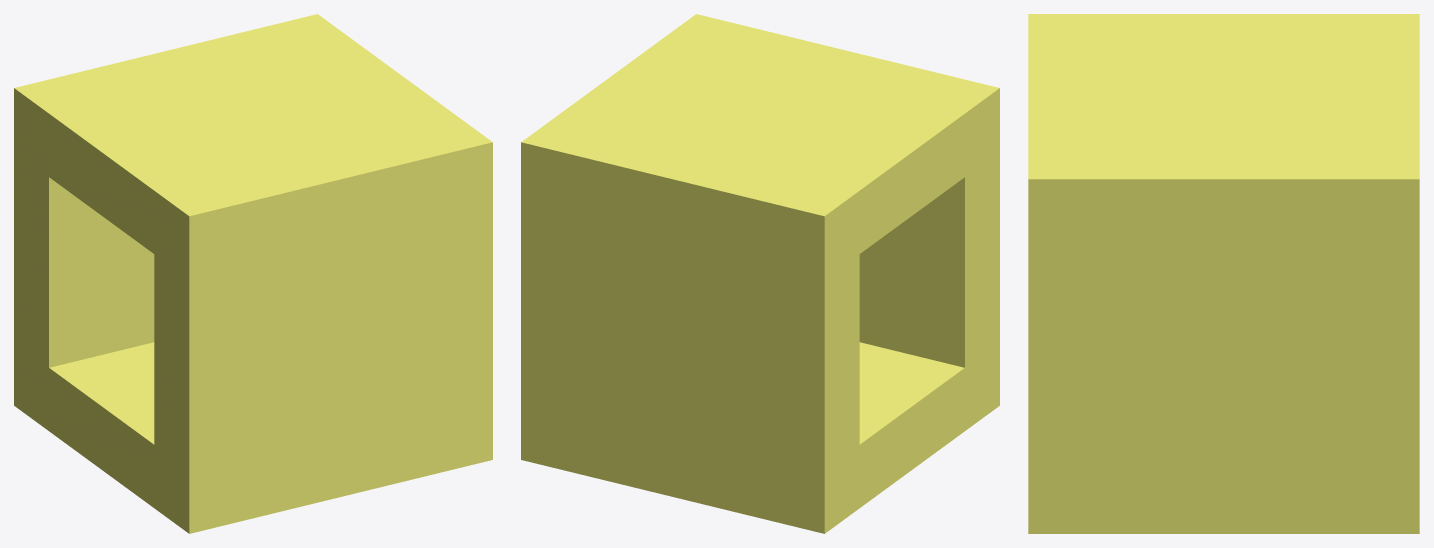
File: cuerpo2.glb
The picture shows the model from 3 angles, left to right: view 1: azimuth 30°, elevation 25°; view 2: azimuth 150°, elevation 25°; view 3: azimuth 270°, elevation 25°; orthographic projection. The views are drawn at different scales.
Parts seen in each view (by area): view 1: Thickness; view 2: Thickness; view 3: Thickness.
Boxes of the visible parts, box(x1,y1,x2,y2) form: Thickness: box(14, 14, 492, 533); Thickness: box(521, 14, 999, 533); Thickness: box(1028, 14, 1419, 533).
Size of the model in its own units: 0.1 by 0.1 by 0.1.
